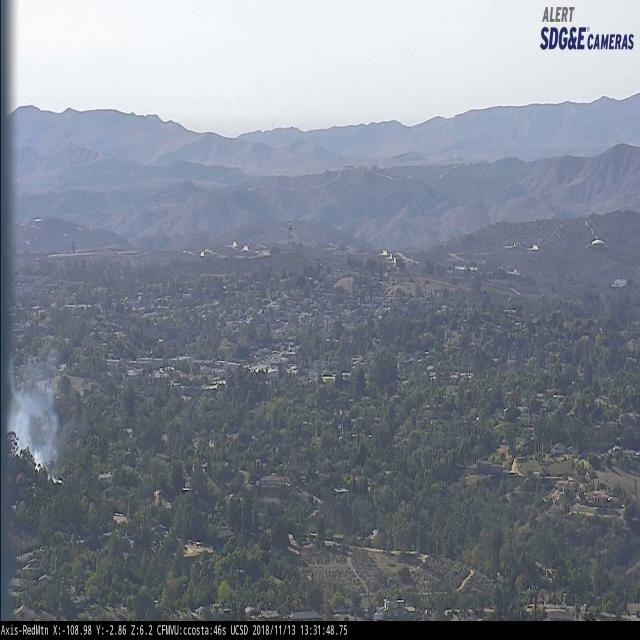smoke: (6, 350, 69, 493)
